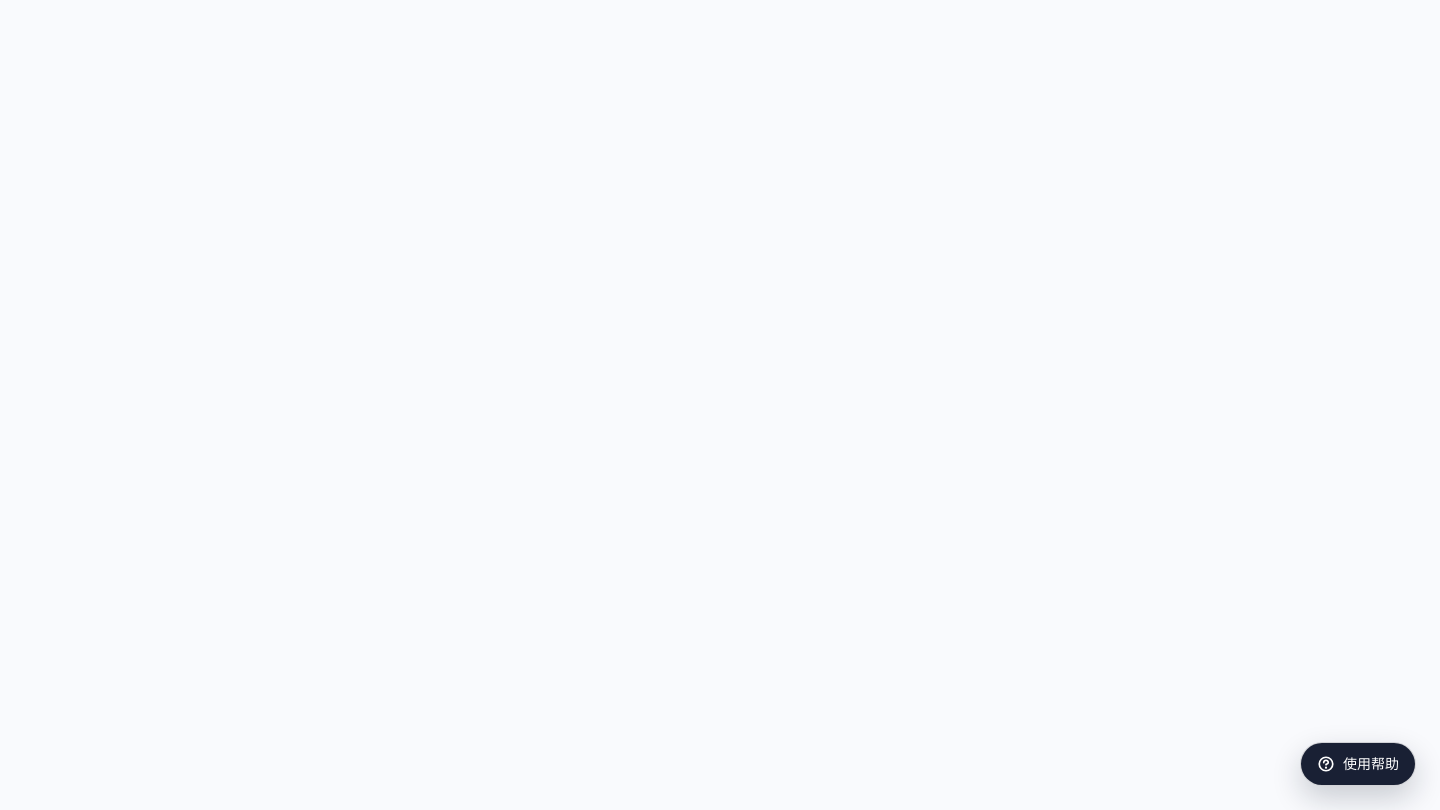
ContextHelp › opens and closes an accessible help panel
The image size is (1440, 810).
Click the button "使用帮助": (1358, 764) x1=1300 y1=742 x2=1416 y2=786
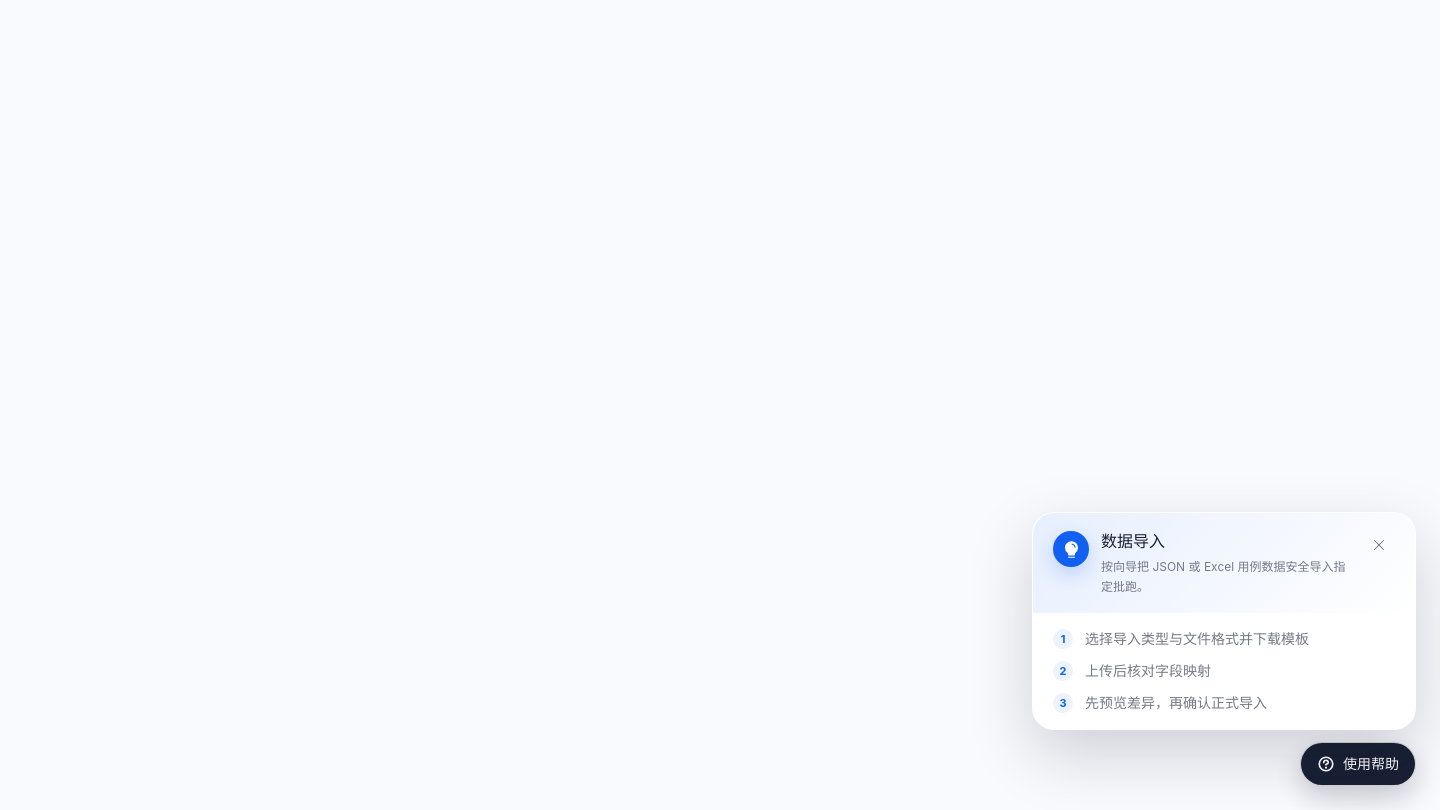
Expected: the dialog is shown, x1=1032 y1=512 x2=1416 y2=730
Expected: the heading "数据导入" is shown, x1=1101 y1=531 x2=1165 y2=551
Expected: the text "选择导入类型与文件格式并下载模板" is shown, x1=1085 y1=629 x2=1309 y2=649
Click the button named "关闭使用帮助": (1379, 545) x1=1363 y1=529 x2=1395 y2=561
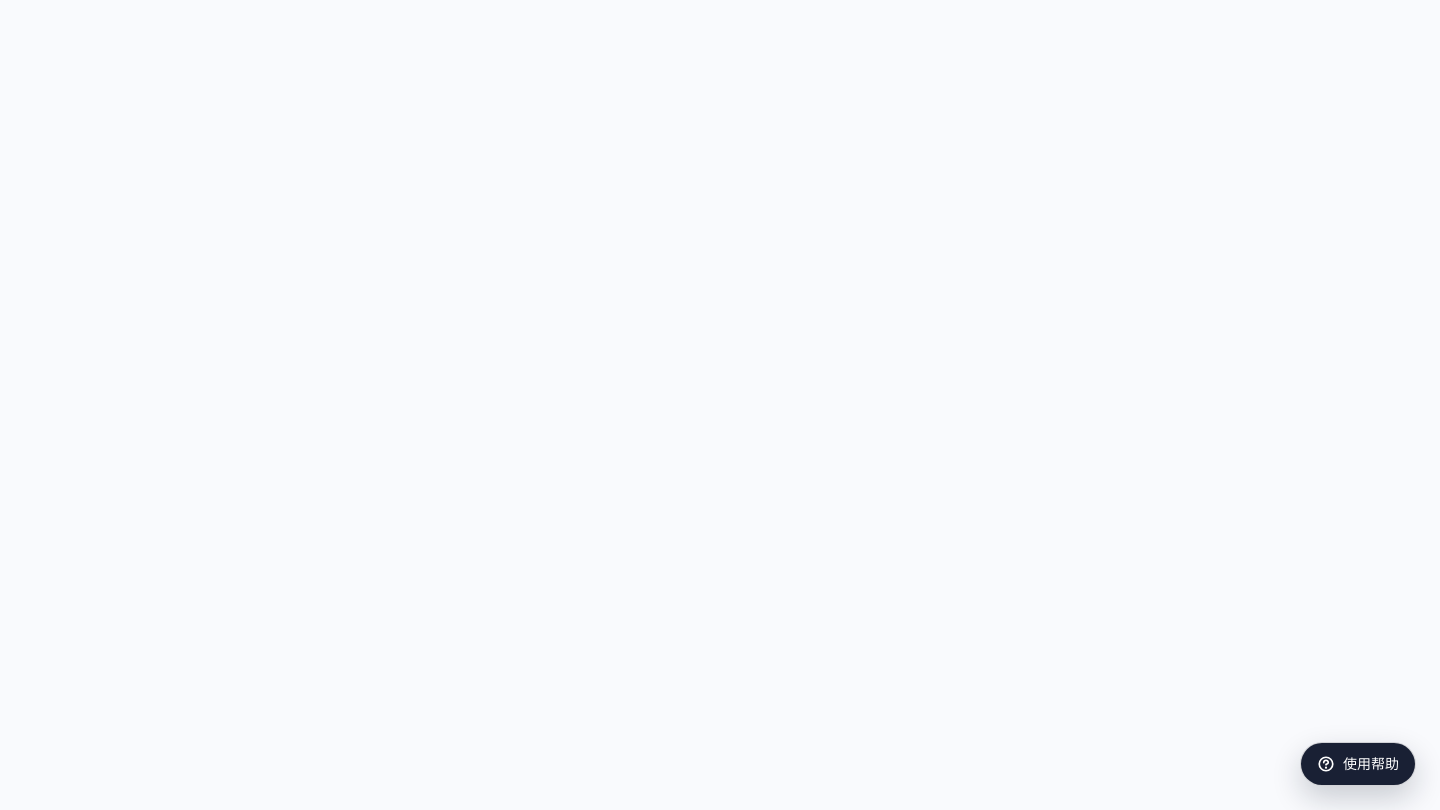
Expected: the dialog is gone
